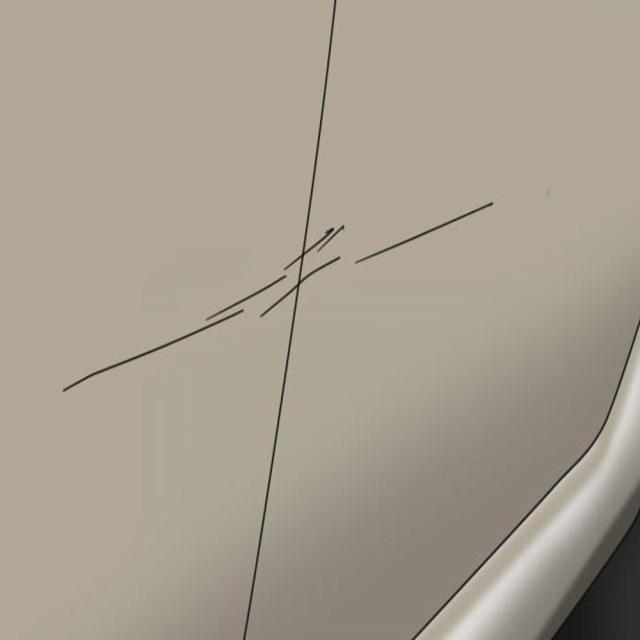scratch: (56, 212, 342, 402), (350, 194, 499, 280)
